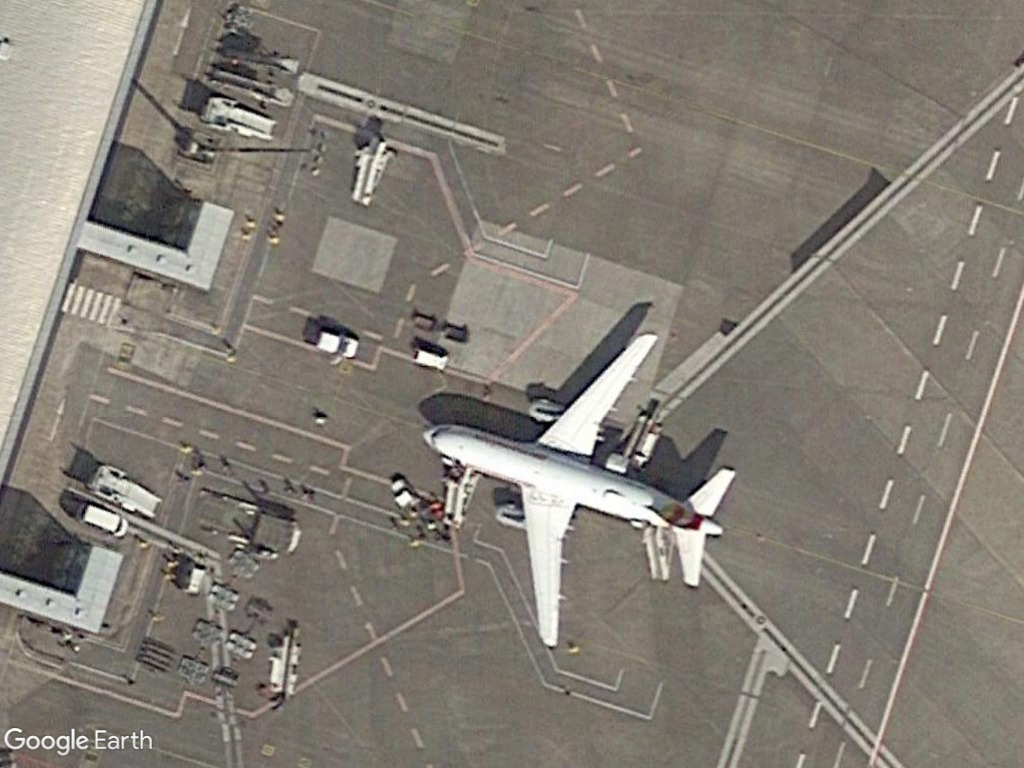chartered: (421, 331, 743, 651)
stairtruck: (84, 464, 166, 521), (197, 93, 281, 143), (345, 135, 394, 207)
